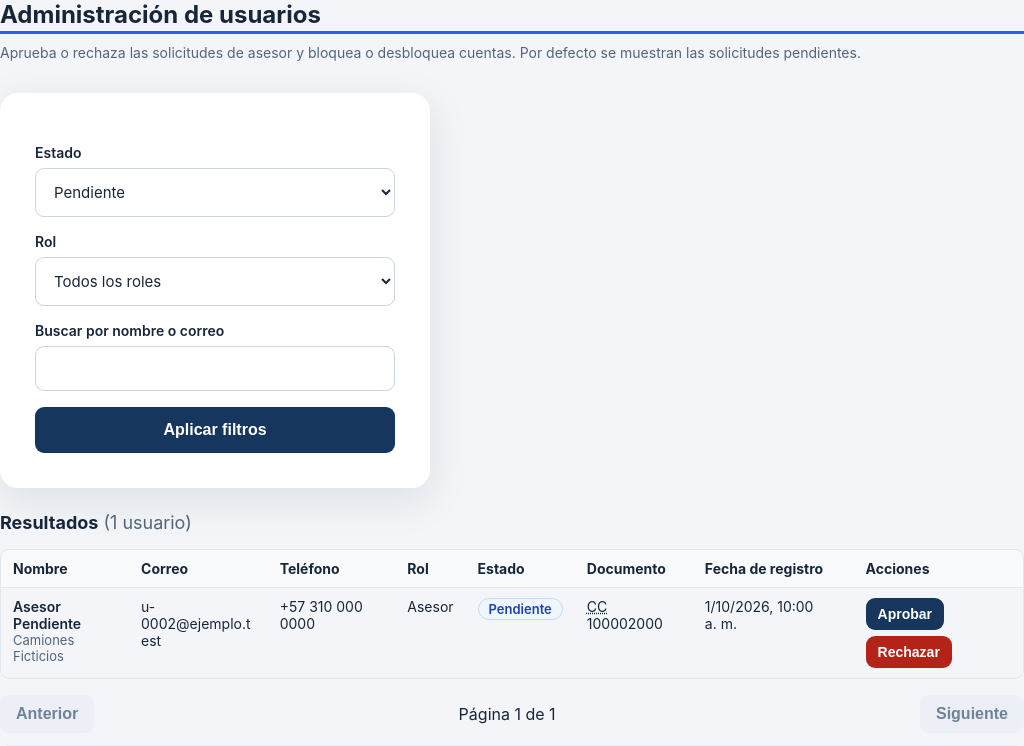
Test case: Panel de administración: lista y filtros › CA-048-07/15 un 400 de filtros muestra cada mensaje bajo su filtro y el aviso general
This screenshot has width=1024, height=746.
In the search field labelled "Buscar por nombre o correo": point(215, 368) x1=35 y1=346 x2=395 y2=391, type "x"
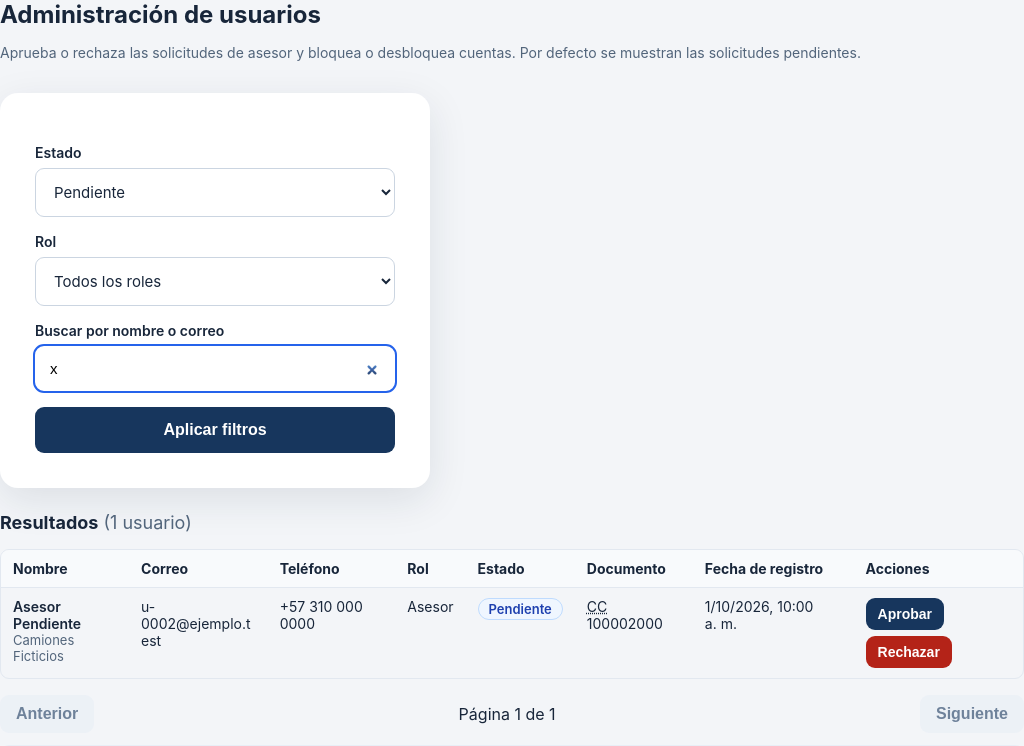
Click the button "Aplicar filtros": point(215, 430) x1=35 y1=407 x2=395 y2=453
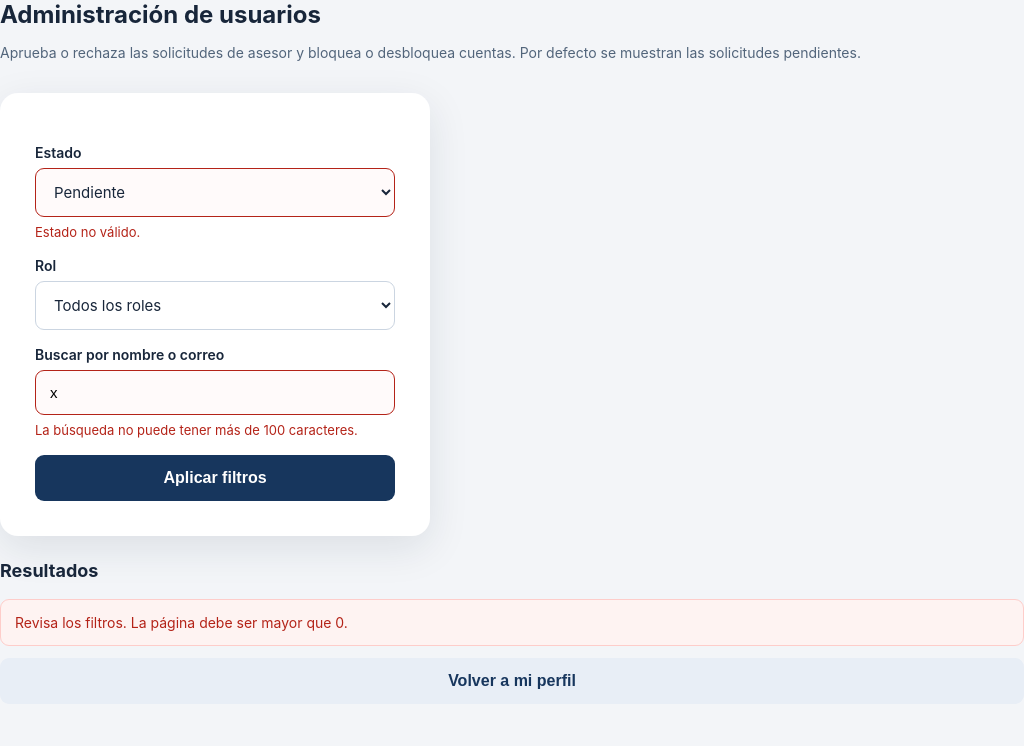
Expected: the list with id "admin-buscar-error" reads "La búsqueda no puede tener más de 100 caracteres.", x1=35 y1=422 x2=358 y2=438
Expected: the list with id "admin-estado-error" reads "Estado no válido.", x1=35 y1=224 x2=140 y2=240
Expected: the message shows "Revisa los filtros.", x1=15 y1=614 x2=348 y2=631
